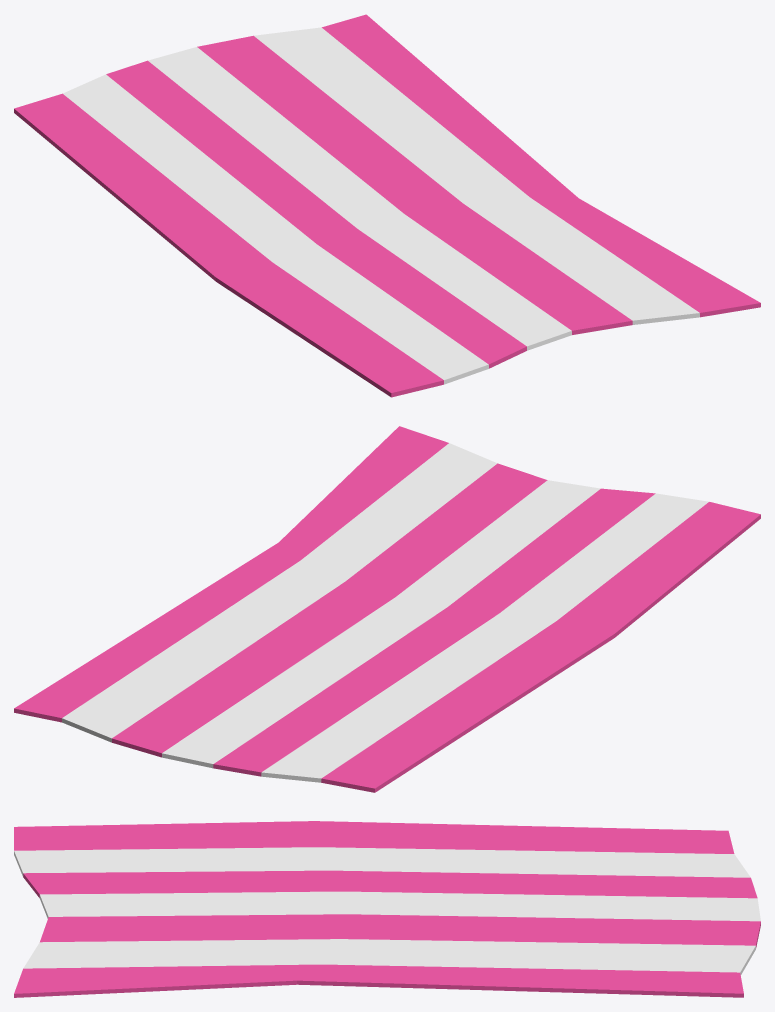
Rendered from Towel_03.fbx.
3 renders of one model, top to bottom at view 1: azimuth 30°, elevation 25°; view 2: azimuth 150°, elevation 25°; view 3: azimuth 270°, elevation 25°, orthographic. The views are drawn at different scales.
Visible parts, largest first — view 1: Towel_03; view 2: Towel_03; view 3: Towel_03.
Boxes of the visible parts, bbox=[...] form: Towel_03: bbox=[14, 14, 760, 397]; Towel_03: bbox=[14, 426, 760, 792]; Towel_03: bbox=[14, 821, 760, 997].
Size of the model in its own units: 112 by 1.22 by 204.
